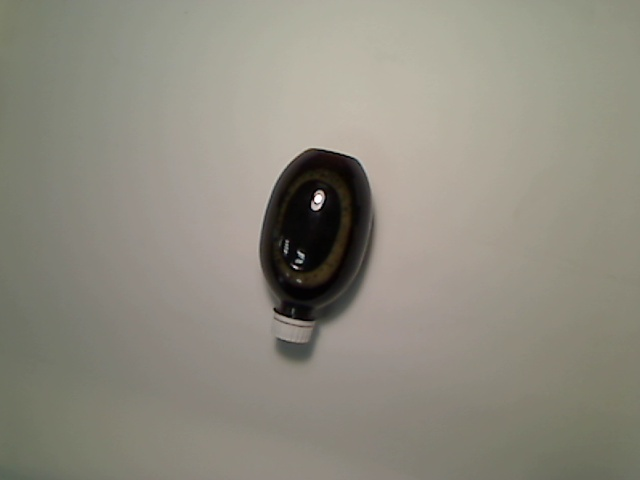plast_bottle: (257, 147, 374, 347)
